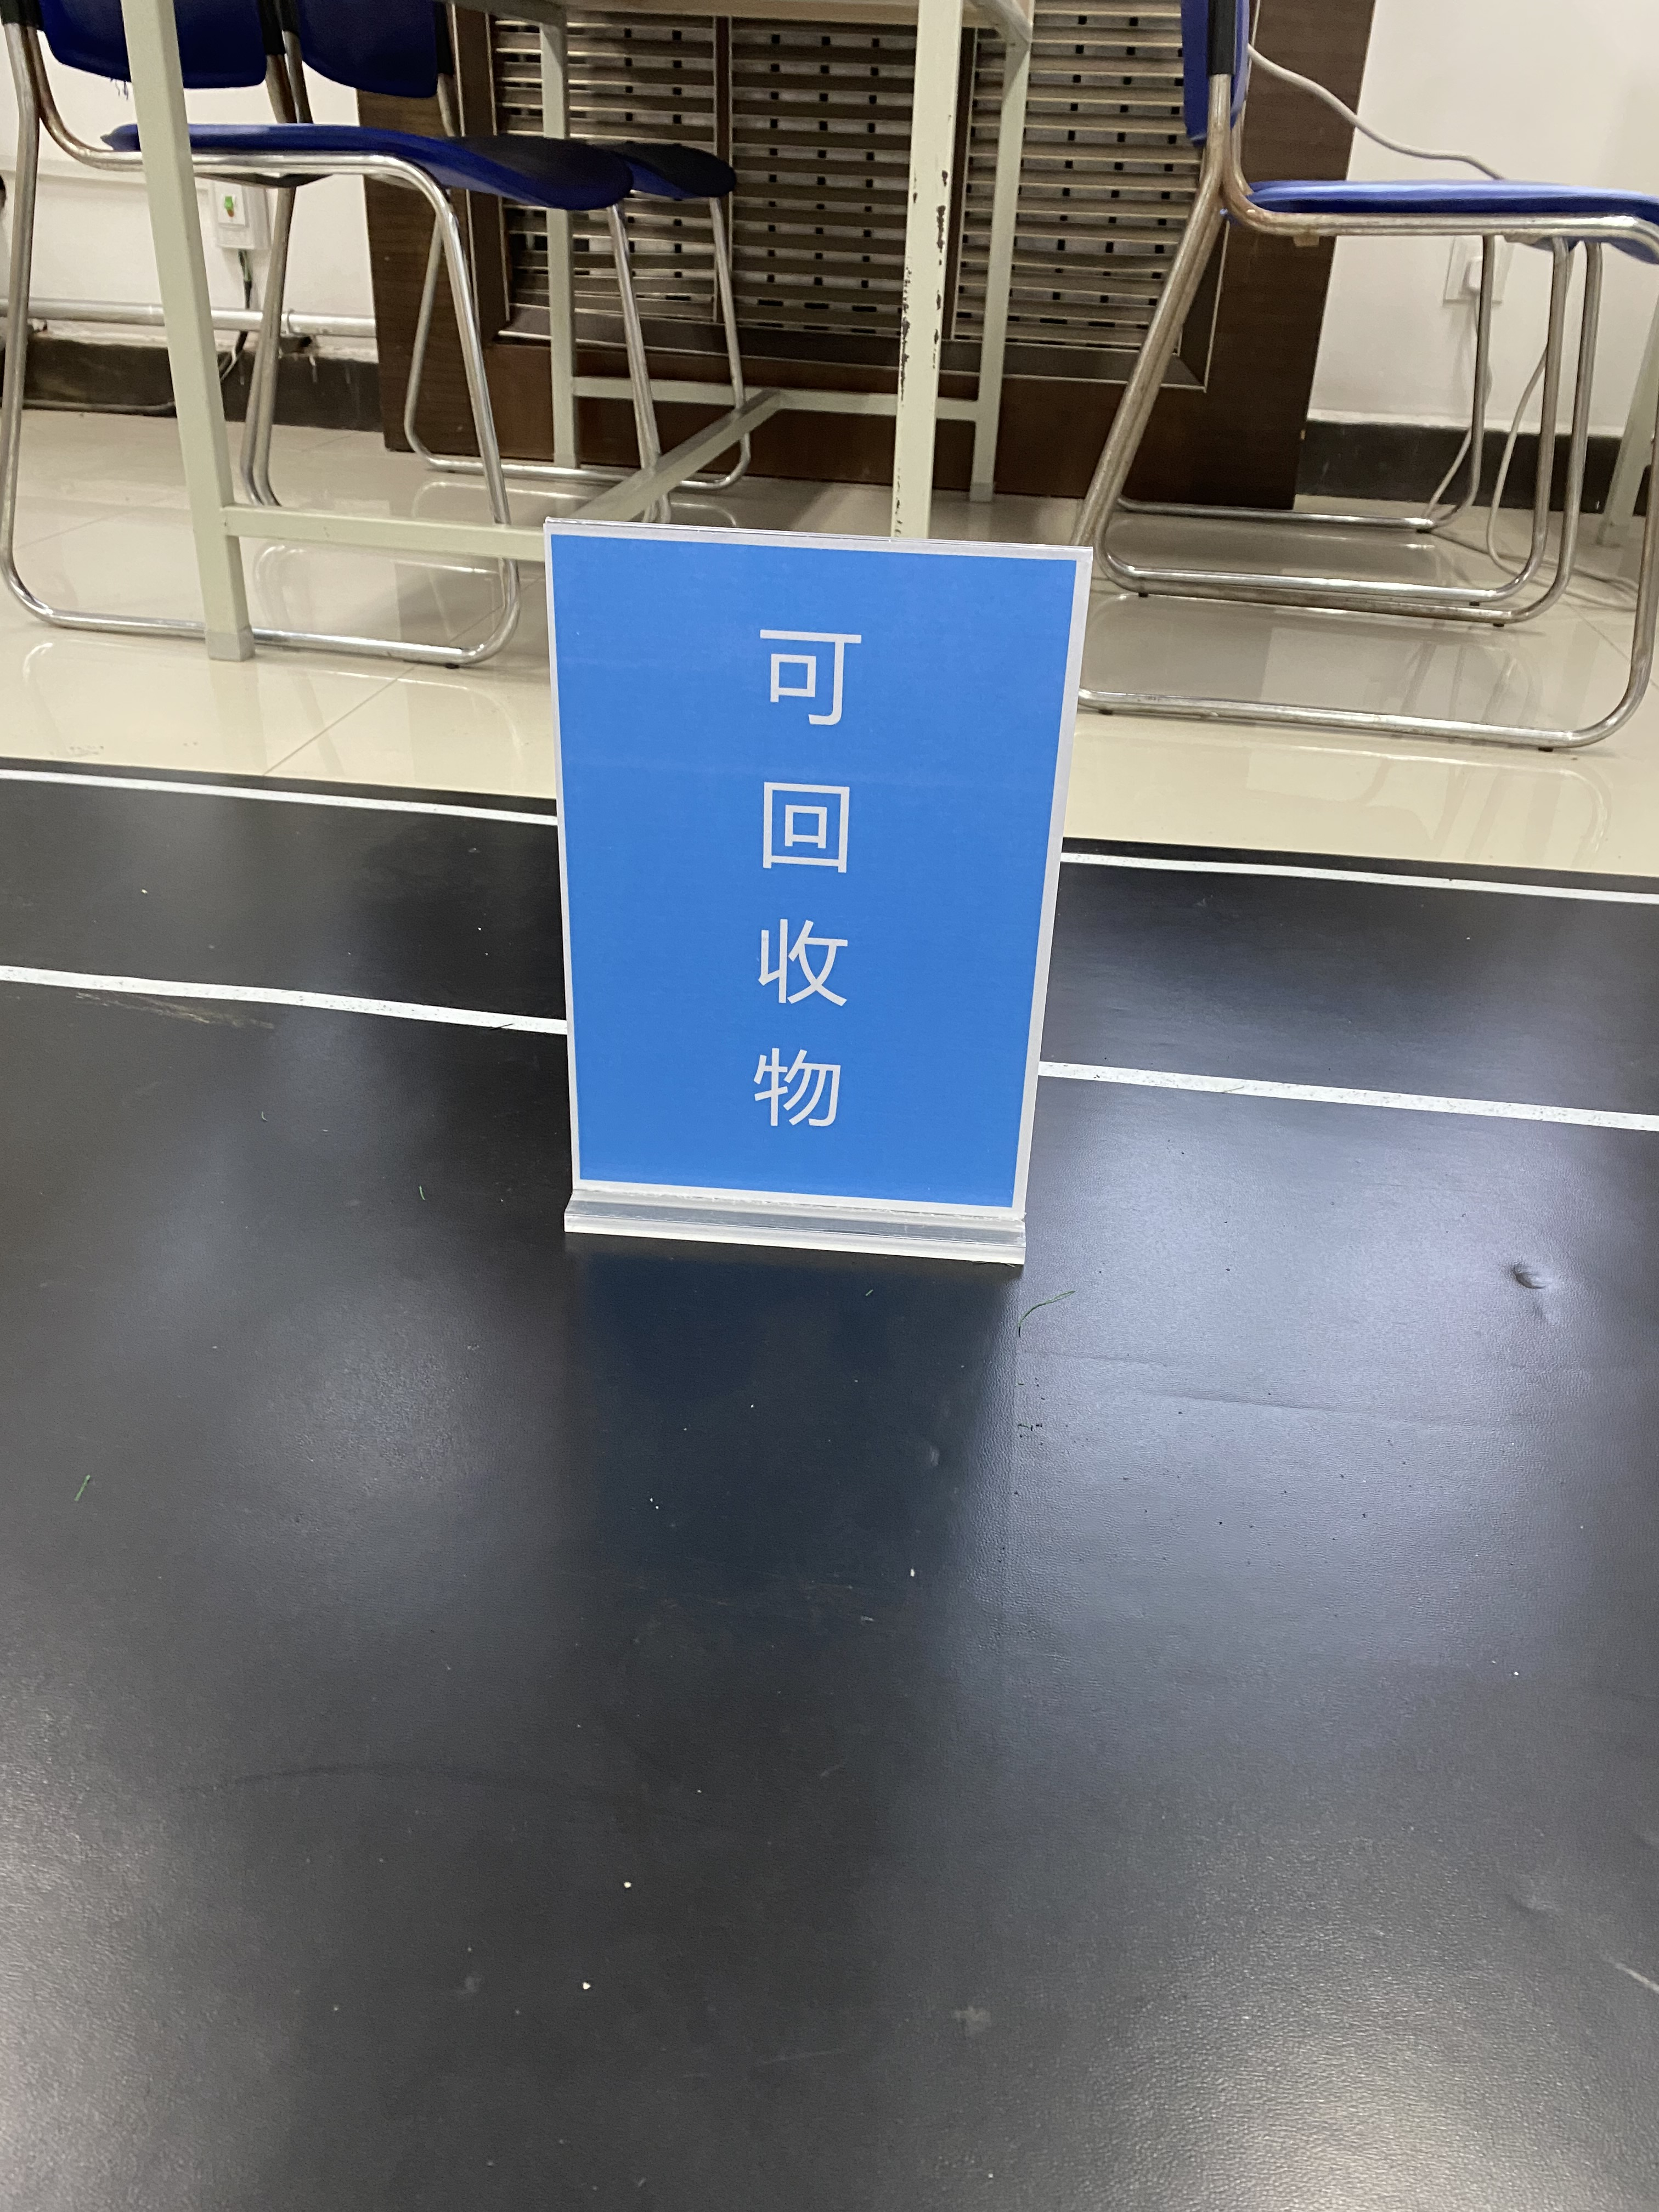blue: (558, 540, 1018, 1184)
